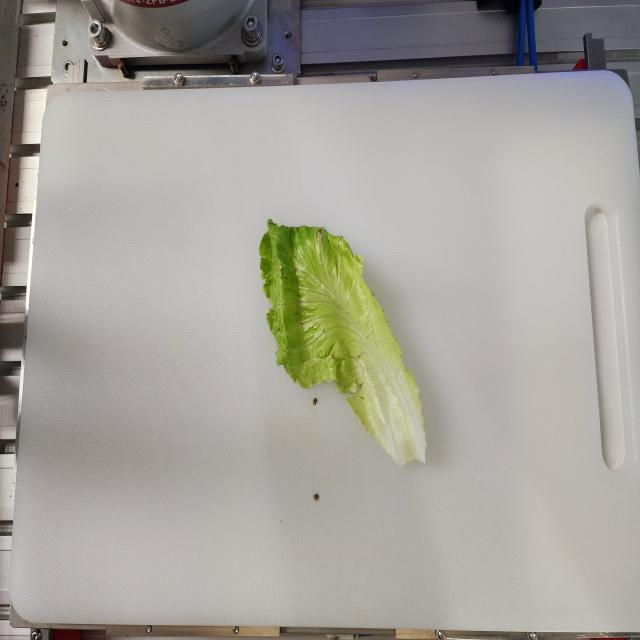lettuce: (258, 217, 428, 468)
